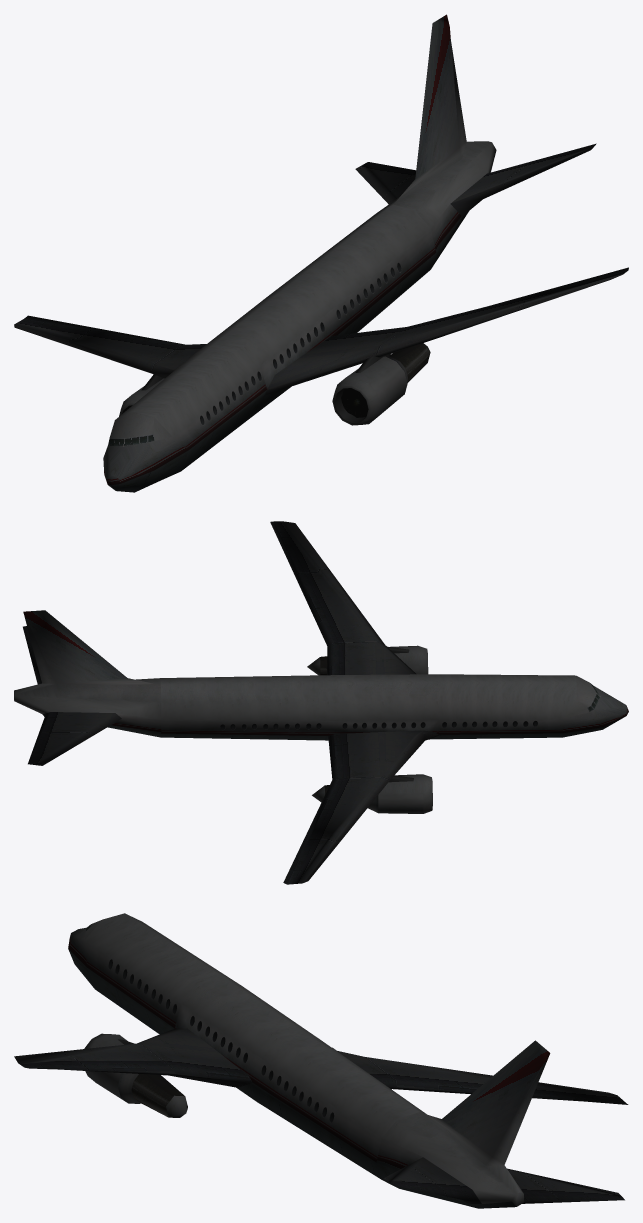
The model's file is cell_21_-9.gltf.
3 views of the same model, one above another, from view 1: azimuth 30°, elevation 25°; view 2: azimuth 150°, elevation 25°; view 3: azimuth 270°, elevation 25° (orthographic). The views are drawn at different scales.
Parts seen in each view (by area): view 1: cell_21_-9; view 2: cell_21_-9; view 3: cell_21_-9.
Part boxes in pixels (x1,y1,x2,y2): cell_21_-9: [14, 14, 628, 492]; cell_21_-9: [14, 521, 628, 884]; cell_21_-9: [14, 913, 628, 1208].
Size of the model in its own units: 85.21 by 31.2 by 68.68.
Materials: 3 (3 with a texture image).
